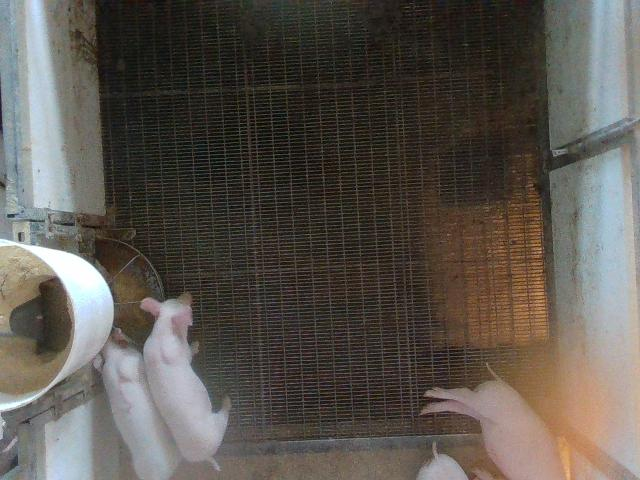pig-5: (94, 328, 180, 479)
